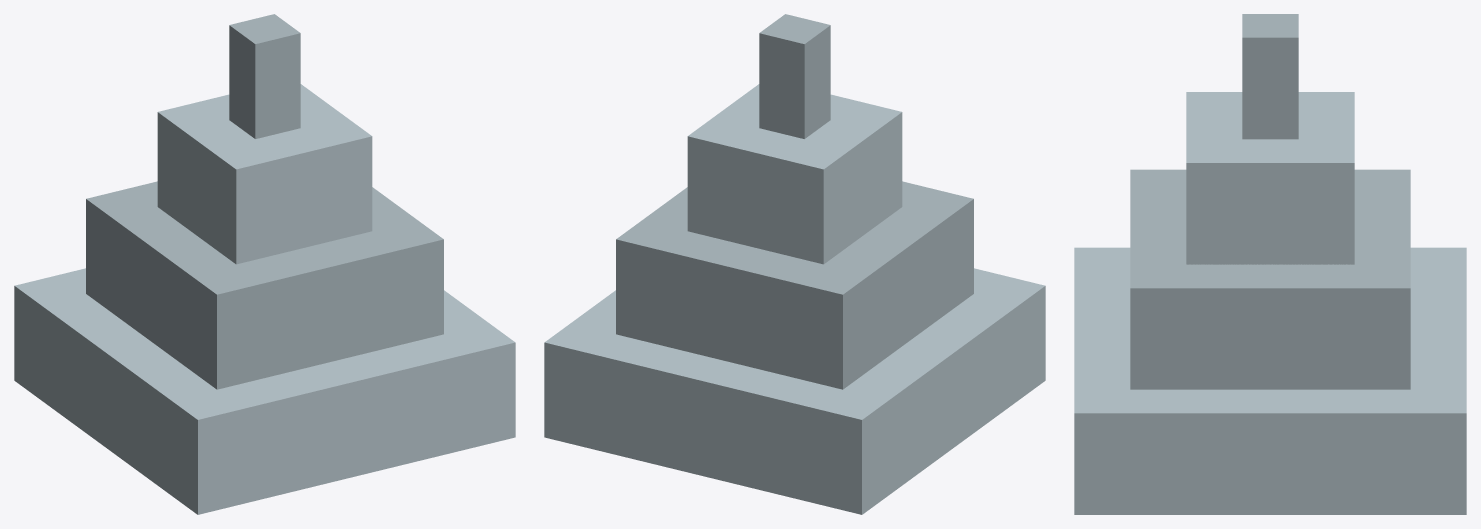
Rendered from toalla_01.glb.
3 renders of one model, left to right at view 1: azimuth 30°, elevation 25°; view 2: azimuth 150°, elevation 25°; view 3: azimuth 270°, elevation 25°, orthographic. The views are drawn at different scales.
Visible parts, largest first — view 1: toalla; view 2: toalla; view 3: toalla.
Part boxes in pixels (x1,y1,x2,y2): toalla: (14, 14, 515, 514); toalla: (544, 14, 1045, 514); toalla: (1074, 14, 1466, 514).
Size of the model in its own units: 0.5833 by 0.6667 by 0.5833.
